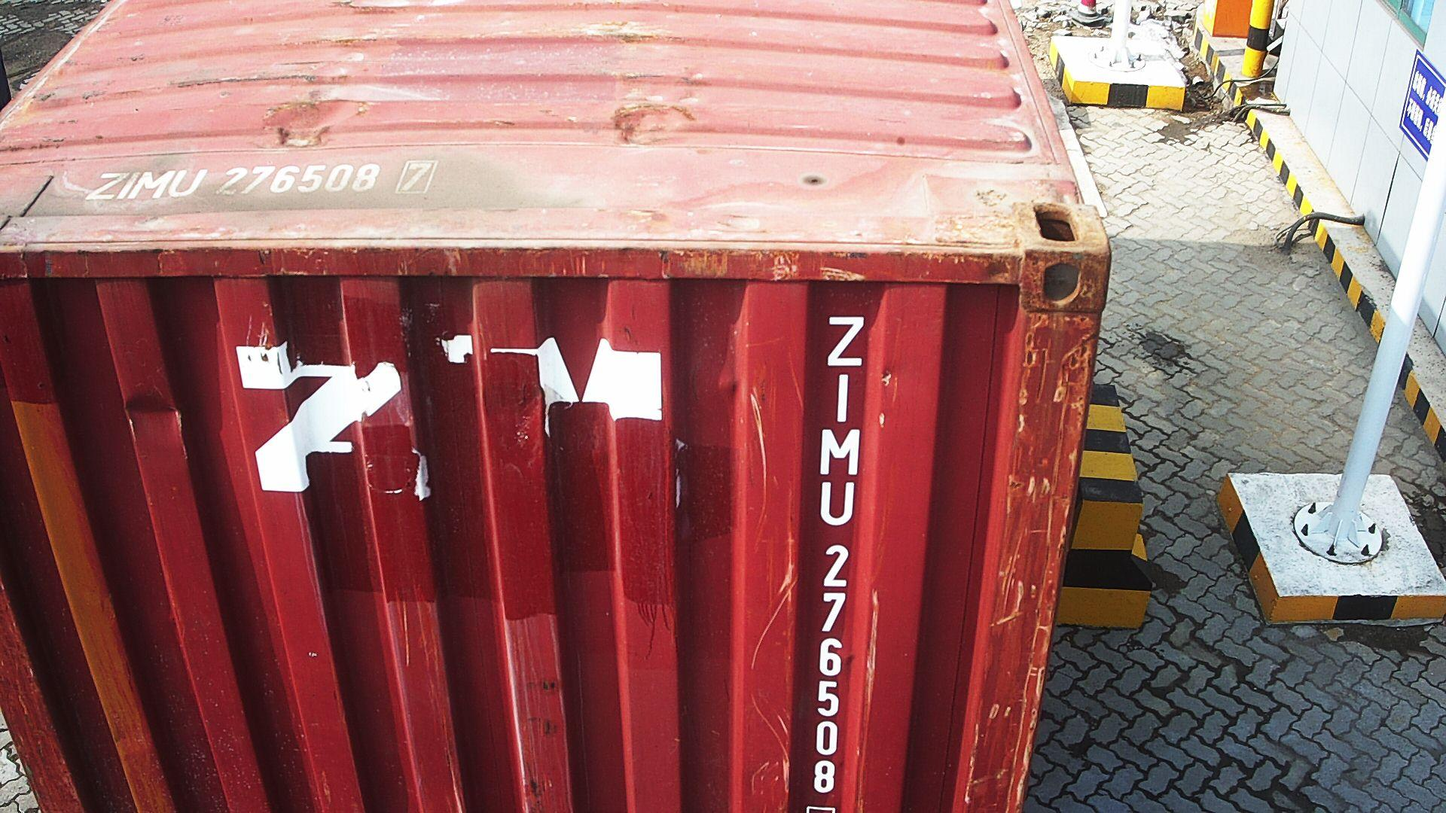container-numbers: (800, 312, 865, 811), (83, 158, 445, 206)
